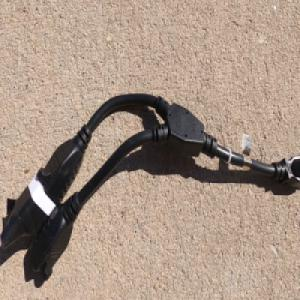Wire: (0, 92, 300, 281)
